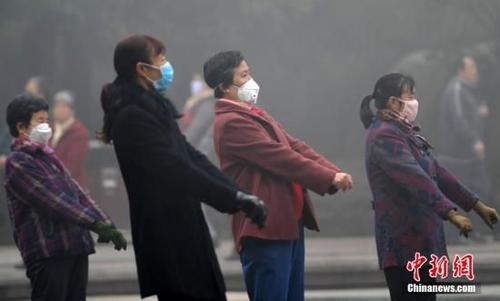yes_mask: (111, 34, 176, 96), (200, 48, 262, 109), (368, 70, 421, 127), (5, 92, 54, 152)
